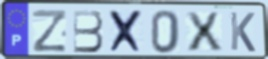0: (149, 9, 182, 55)
B: (71, 9, 106, 54)
K: (229, 11, 257, 54)
X: (107, 9, 146, 55), (184, 11, 225, 53)
Z: (31, 9, 69, 54)
